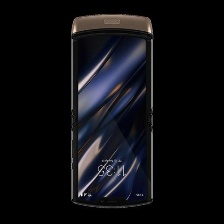phone: (67, 8, 160, 212)
